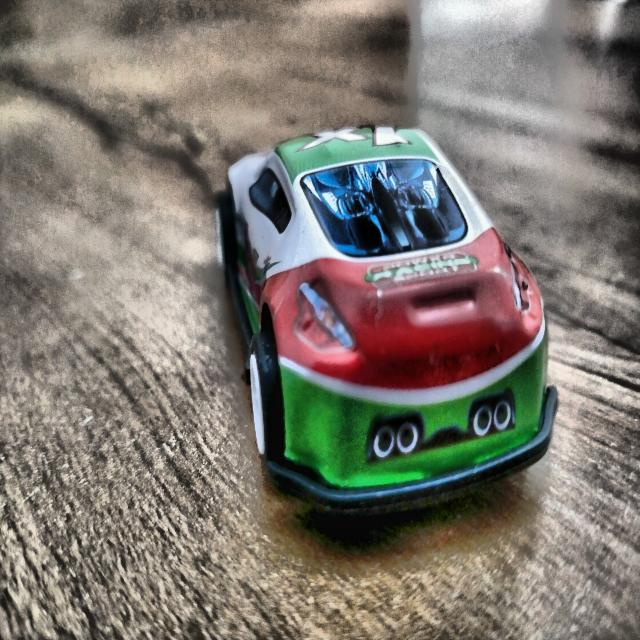Car: (213, 122, 568, 539)
